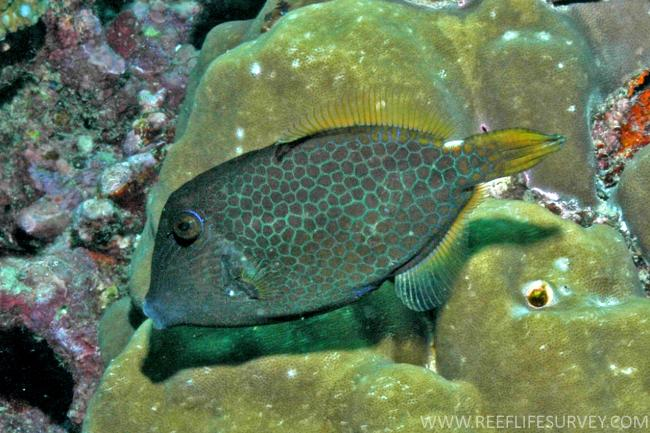fish: (142, 86, 569, 329)
